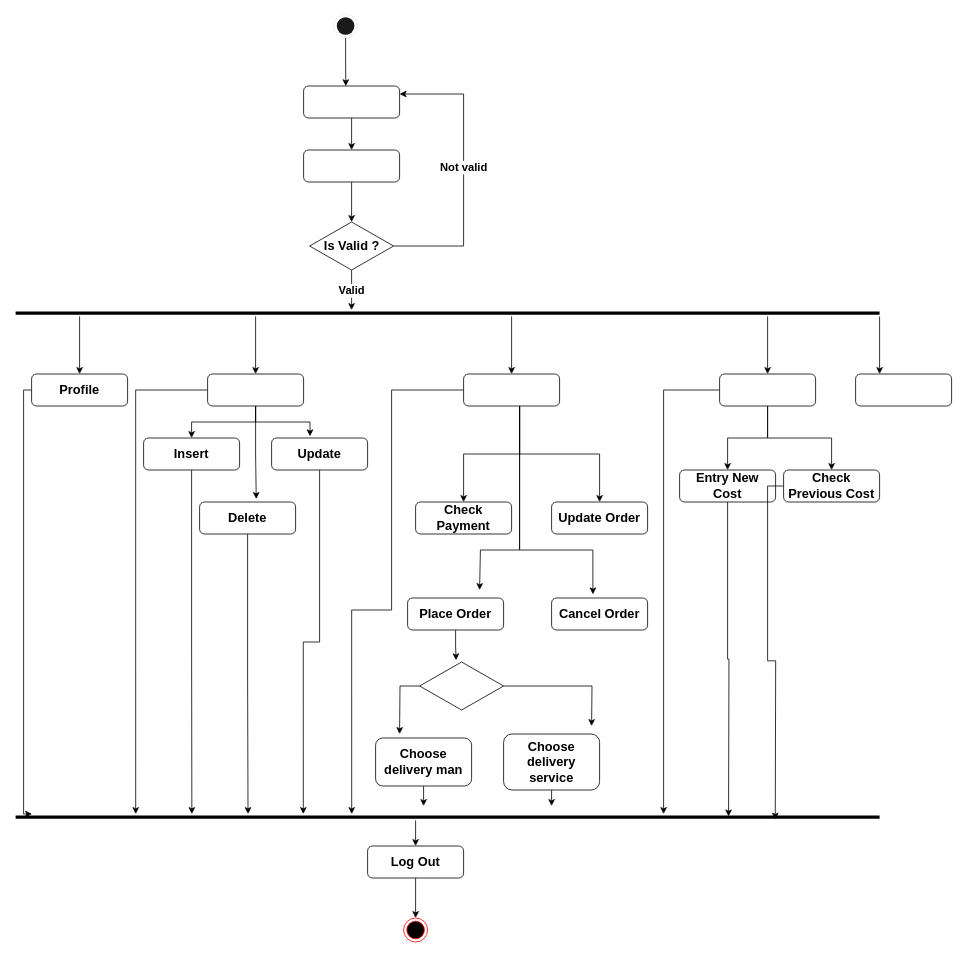
Some shapes in this 966 by 956 pixel diagram are drawn without their labels. The box of each missing label's shape, as (x1, y1, x2, y2) in pixels:
Authenticate: (303, 149, 400, 182)
Delivery Method?: (419, 661, 504, 710)
Handle Cost: (719, 373, 816, 406)
Handle Order: (463, 373, 560, 406)
Handle Product: (207, 373, 304, 406)
Login: (303, 85, 400, 118)
Manage Customer: (855, 373, 952, 406)
